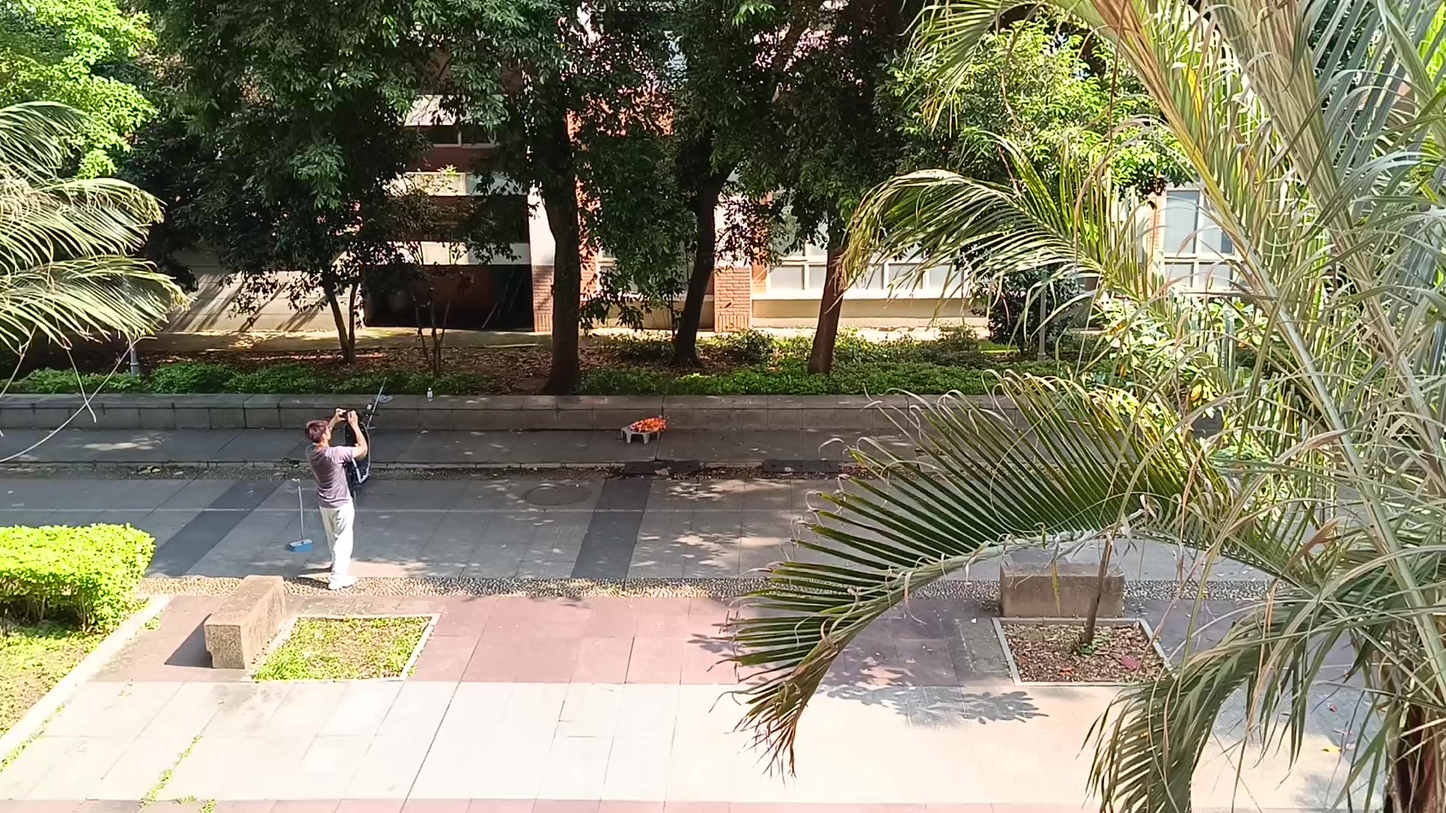fire: (631, 416, 667, 430)
